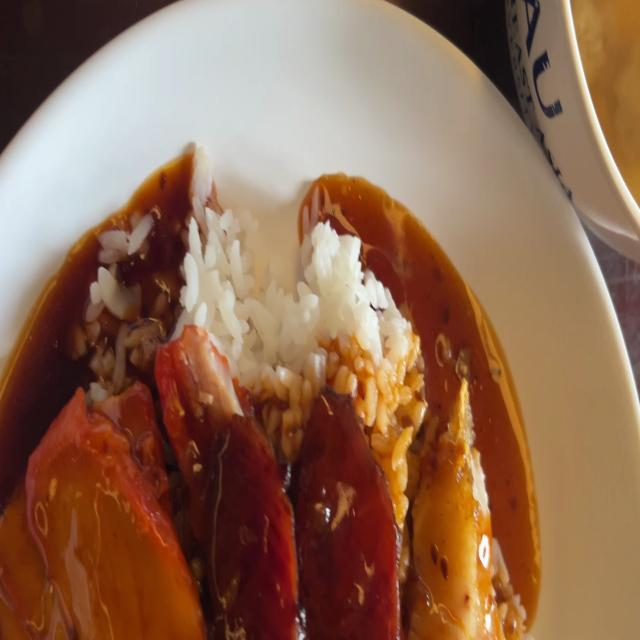stir_fried_basil: (213, 390, 402, 640), (208, 404, 296, 640), (304, 393, 388, 634)
